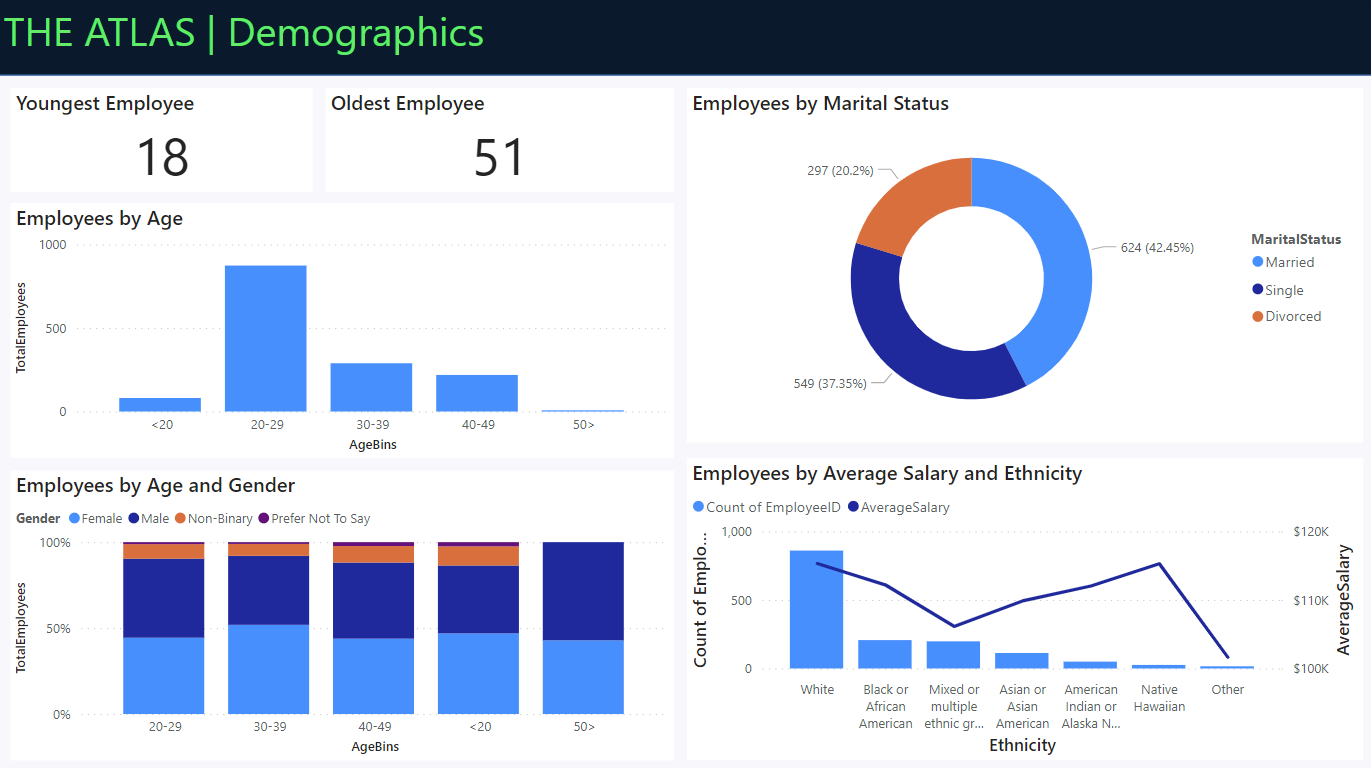

The dashboard page shown, as its layout file describes it:
{"tool":"powerbi","page":{"name":"Demographics","canvas":[1280,720],"ordinal":1},"visuals":[{"type":"card","title":"Youngest Employee","fields":{"Values":["Min(DimEmployee.Age)"]},"box":[0,0,304.8,140],"z":0},{"type":"card","title":"Oldest Employee","fields":{"Values":["Max(DimEmployee.Age)"]},"box":[304.8,0,335.7,140],"z":1000},{"type":"columnChart","title":"Employees by Age","fields":{"Y":["_Measures.TotalEmployees"],"Category":["DimEmployee.AgeBins"]},"box":[0,140,640.4,298.6],"z":2000},{"type":"hundredPercentStackedColumnChart","title":"Employees by Age and Gender","fields":{"Y":["_Measures.TotalEmployees"],"Category":["DimEmployee.AgeBins"],"Series":["DimEmployee.Gender"]},"box":[0,418,640.4,302.7],"z":2001},{"type":"donutChart","title":"Employees by Marital Status","fields":{"Y":["CountNonNull(DimEmployee.EmployeeID)"],"Category":["DimEmployee.MaritalStatus"]},"box":[640,0,640,360],"z":2002},{"type":"lineStackedColumnComboChart","title":"Employees by Average Salary and Ethnicity","fields":{"Y":["CountNonNull(DimEmployee.EmployeeID)"],"Y2":["_Measures.AverageSalary"],"Category":["DimEmployee.Ethnicity"]},"box":[640,360,640,360],"z":2003}]}

Visuals, with their boxes in screenshot pixels (x1, y1, x2, y2), scaled from the page's 1280x720 canvas onto the 1371x768 screenshot:
"Youngest Employee" card: {"x1": 0, "y1": 0, "x2": 326, "y2": 149}
"Oldest Employee" card: {"x1": 326, "y1": 0, "x2": 686, "y2": 149}
"Employees by Age" columnChart: {"x1": 0, "y1": 149, "x2": 686, "y2": 468}
"Employees by Age and Gender" hundredPercentStackedColumnChart: {"x1": 0, "y1": 446, "x2": 686, "y2": 767}
"Employees by Marital Status" donutChart: {"x1": 686, "y1": 0, "x2": 1370, "y2": 384}
"Employees by Average Salary and Ethnicity" lineStackedColumnComboChart: {"x1": 686, "y1": 384, "x2": 1370, "y2": 767}
